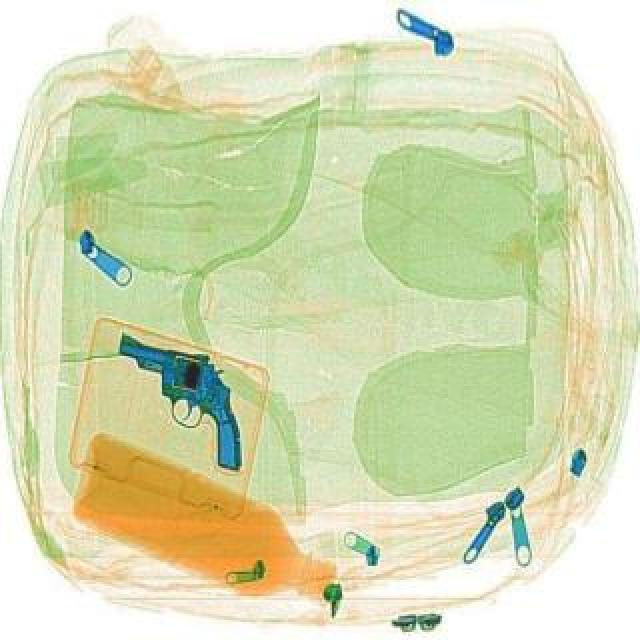gun: (94, 332, 266, 468)
